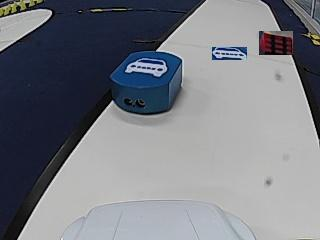safety: (126, 57, 168, 77)
